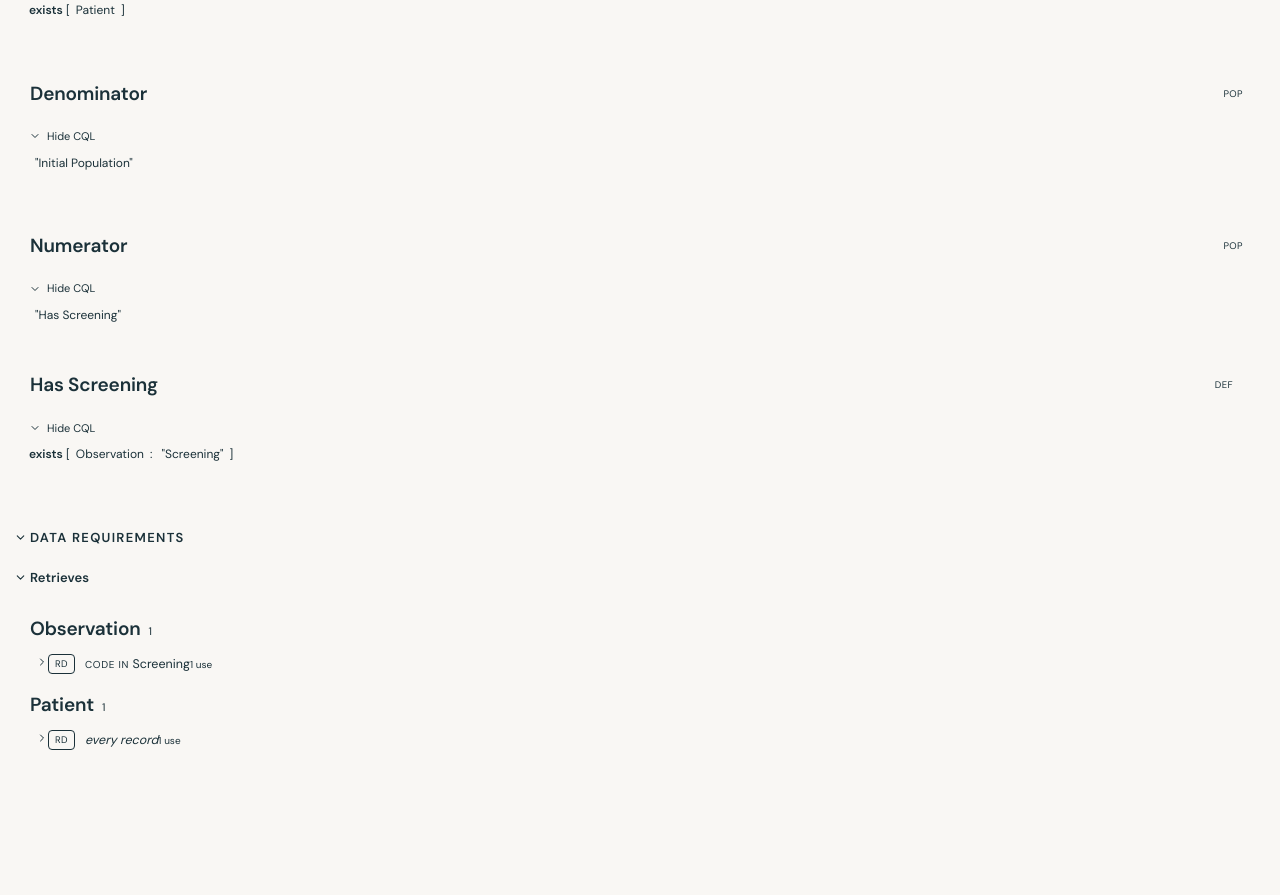
Test: MeasureNarrative — the reference lens is the inspector (SPEC-REF-LENS) › keeps Pin as a TOGGLE reporting the pane's scope, and dismisses on it
(page scrolled)
Click the button with class "mw-dreq-head" showing "rd code in Screening1 use". click: (124, 664)
box: [30,652,218,675]
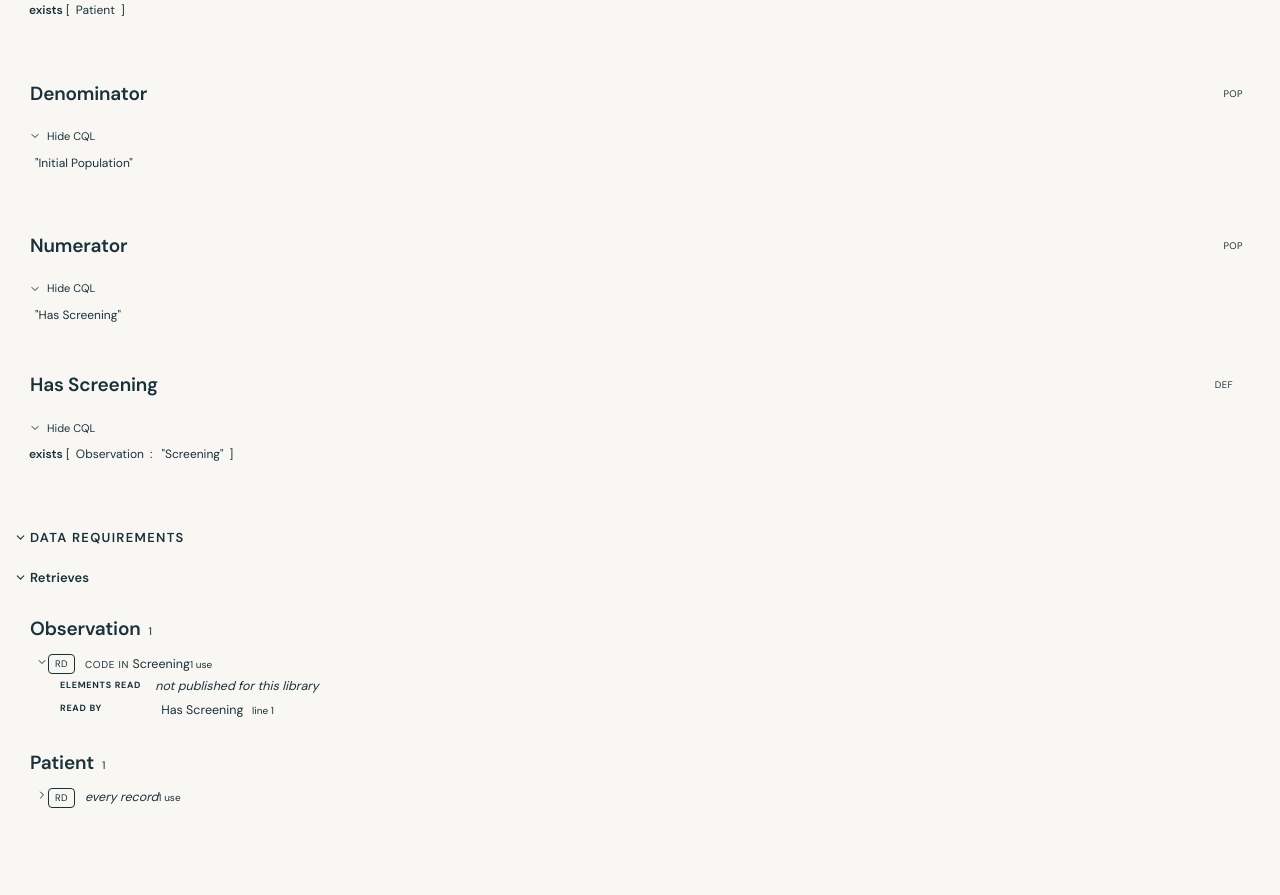
Click the button with class "mw-defref". click: (202, 710)
box: [155,700,249,721]
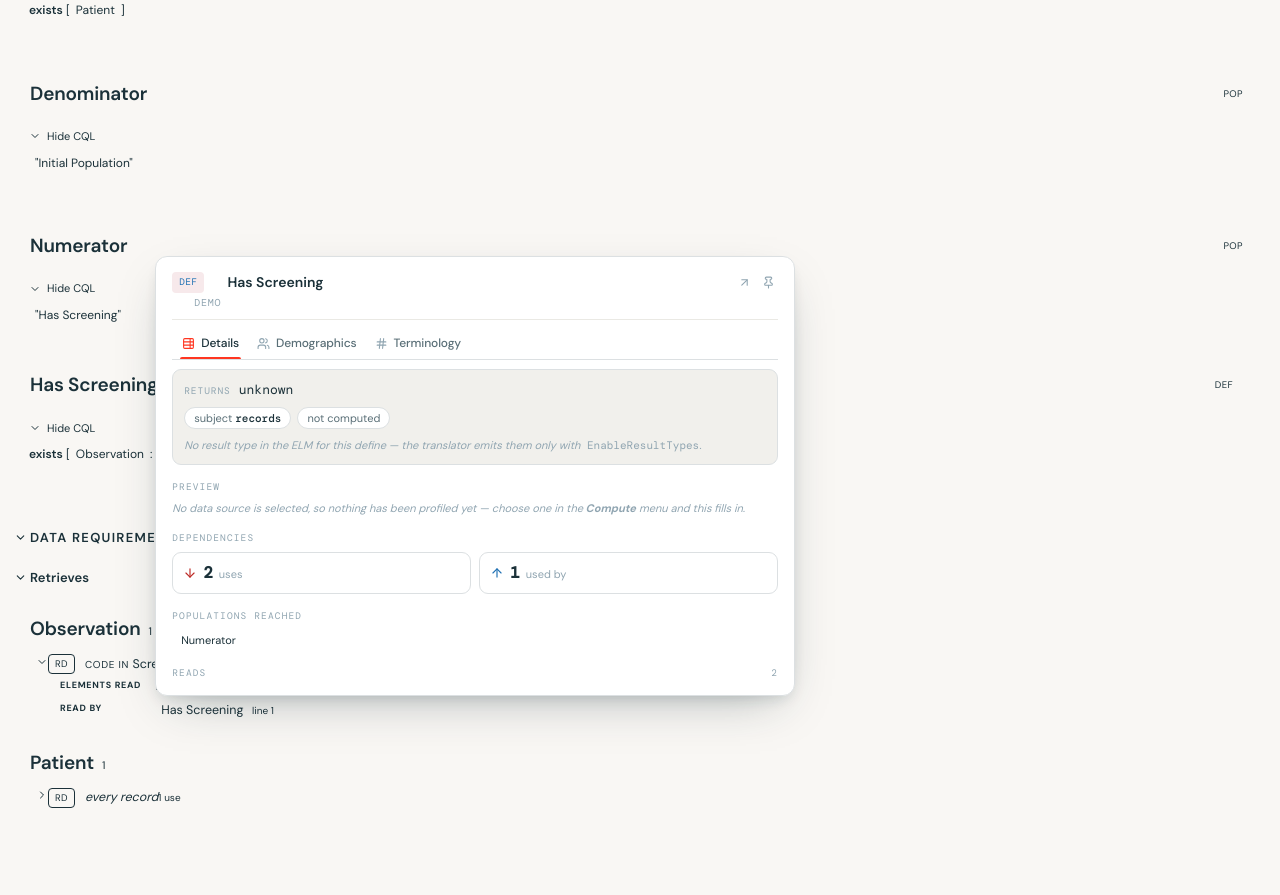
Click the button named "Pin to the inspector". click: (767, 283)
box: [756,272,778,294]
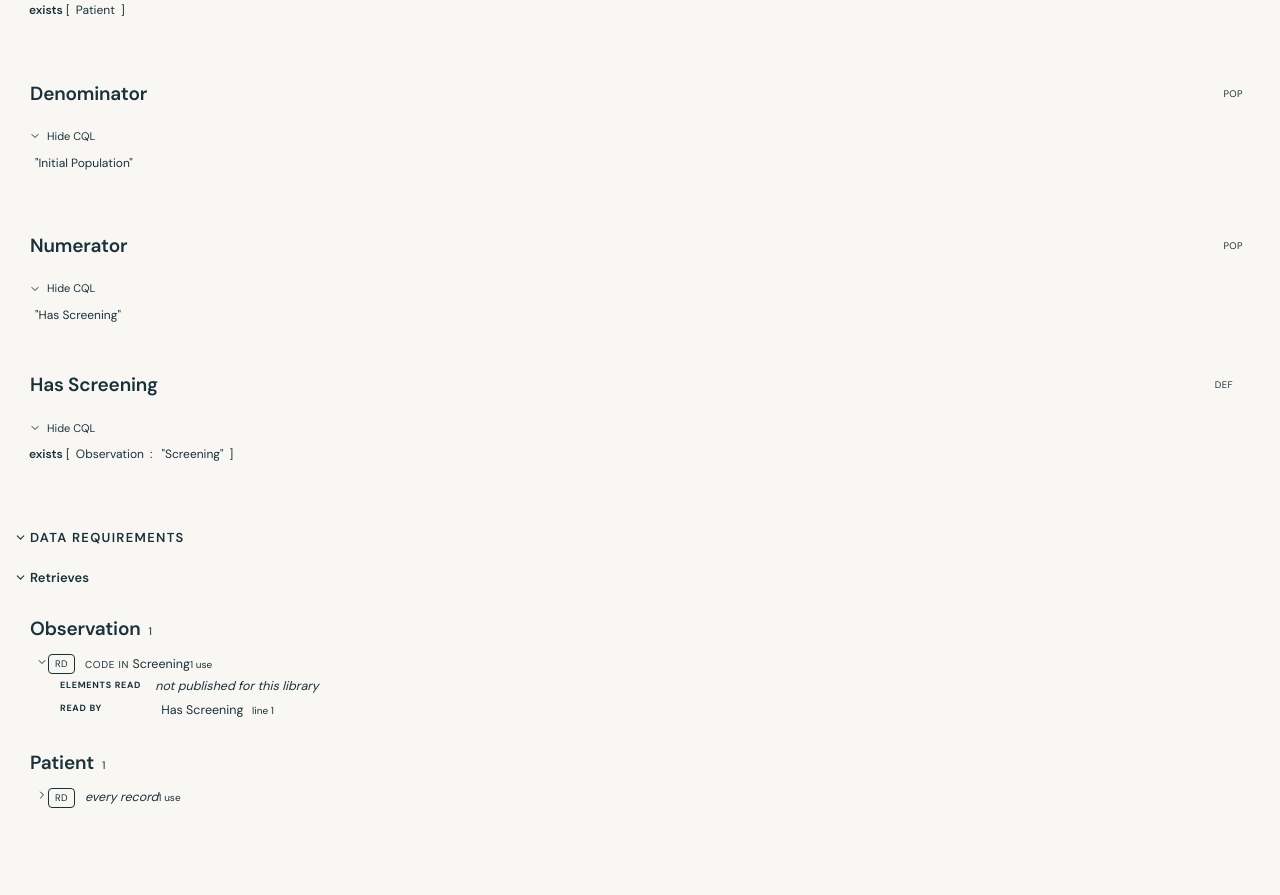
Expected: the heading "Has Screening" is shown, [30,371,158,400]
Now the dialog with class "mw-reflens" is gone
